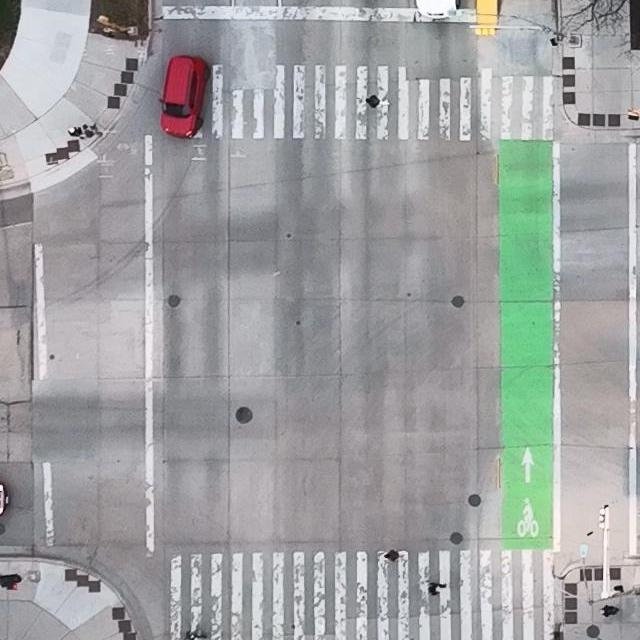car: (156, 56, 208, 138)
